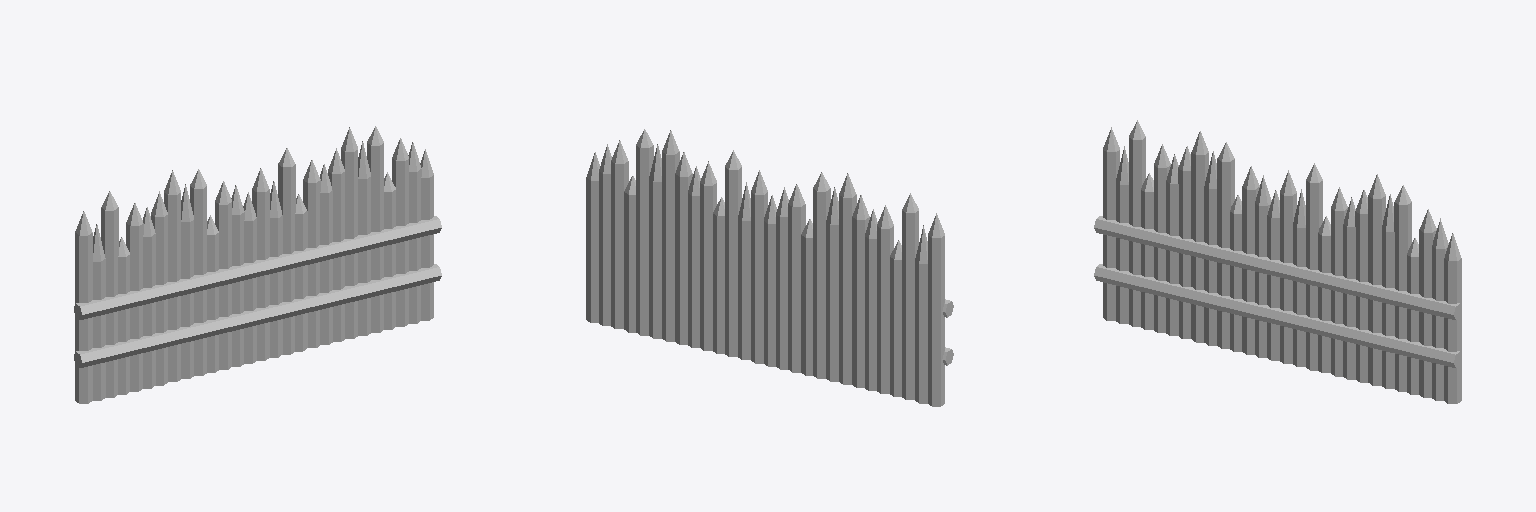
Rendered from wall.obj.
3 views of the same model, side by side, from view 1: azimuth 30°, elevation 25°; view 2: azimuth 150°, elevation 25°; view 3: azimuth 330°, elevation 25° (orthographic).
Parts seen in each view (by area): view 1: obj1, obj2; view 2: obj1, obj2; view 3: obj1, obj2.
Boxes of the visible parts, x1=… form: obj1: x1=75, y1=143, x2=441, y2=403; obj2: x1=74, y1=126, x2=433, y2=367; obj1: x1=586, y1=145, x2=950, y2=406; obj2: x1=587, y1=129, x2=953, y2=365; obj1: x1=1094, y1=137, x2=1461, y2=403; obj2: x1=1103, y1=120, x2=1461, y2=367.
Size of the model in its own units: 8.03 by 4.46 by 0.4776.